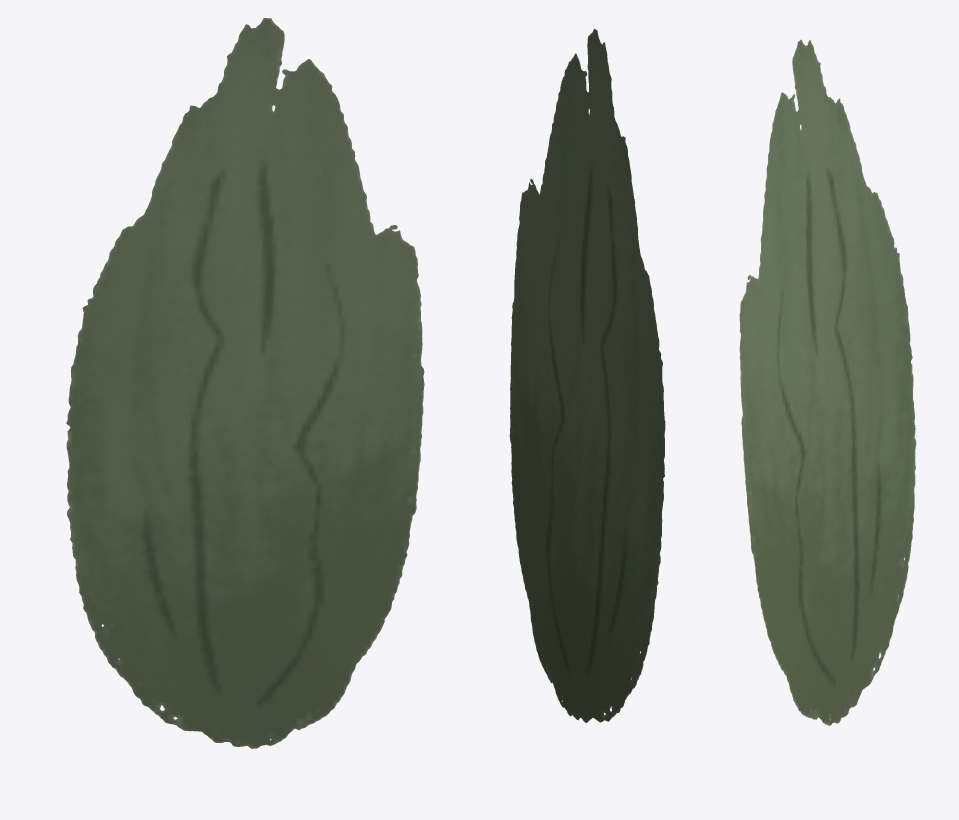
File: tree1_002.fbx
The picture shows the model from 3 angles, left to right: view 1: azimuth 30°, elevation 25°; view 2: azimuth 150°, elevation 25°; view 3: azimuth 270°, elevation 25°; orthographic projection. The views are drawn at different scales.
Visible parts, largest first — view 1: tree1.002; view 2: tree1.002; view 3: tree1.002.
Part boxes in pixels (x1=…): tree1.002: x1=66, y1=18, x2=424, y2=748; tree1.002: x1=509, y1=28, x2=665, y2=722; tree1.002: x1=739, y1=39, x2=916, y2=725.
Bounding box in the file's own units: 271 × 648 × 182.
